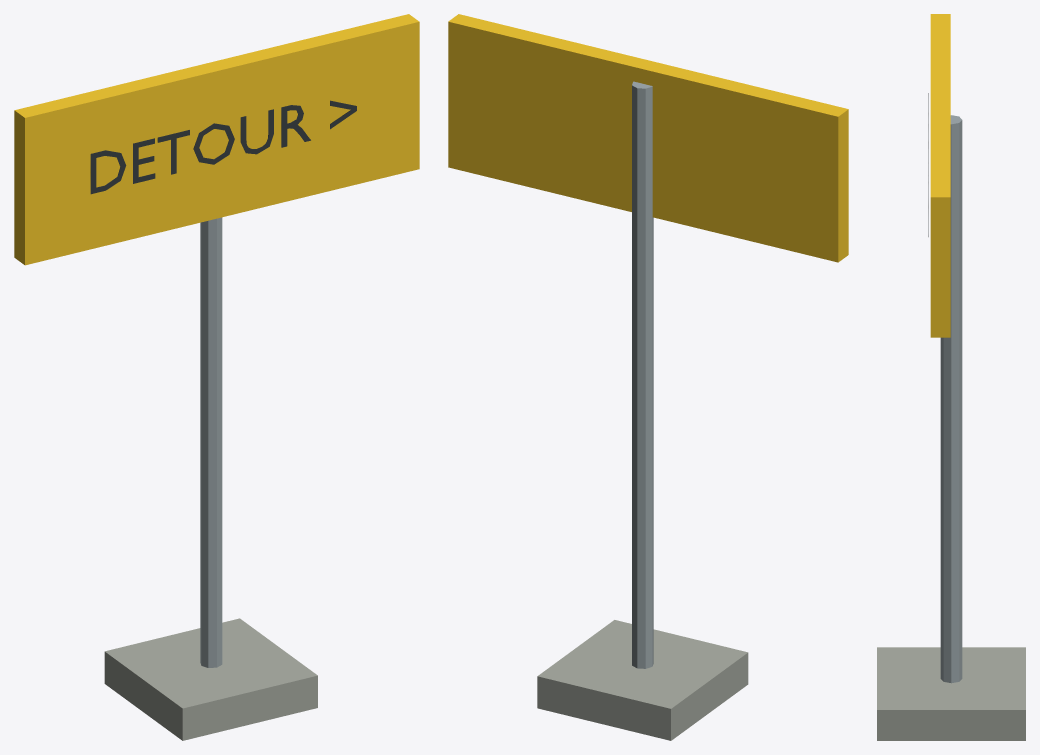
File: TR3_Sign_Detour.glb
3 views of the same model, side by side, from view 1: azimuth 30°, elevation 25°; view 2: azimuth 150°, elevation 25°; view 3: azimuth 270°, elevation 25° (orthographic). The views are drawn at different scales.
Visible parts, largest first — view 1: TR3_Sign_Detour; view 2: TR3_Sign_Detour; view 3: TR3_Sign_Detour.
Boxes of the visible parts, x1=… form: TR3_Sign_Detour: x1=14, y1=14, x2=419, y2=740; TR3_Sign_Detour: x1=448, y1=14, x2=848, y2=740; TR3_Sign_Detour: x1=877, y1=14, x2=1025, y2=740.
Bounding box in the file's own units: 1.4 × 2.15 × 0.48.
